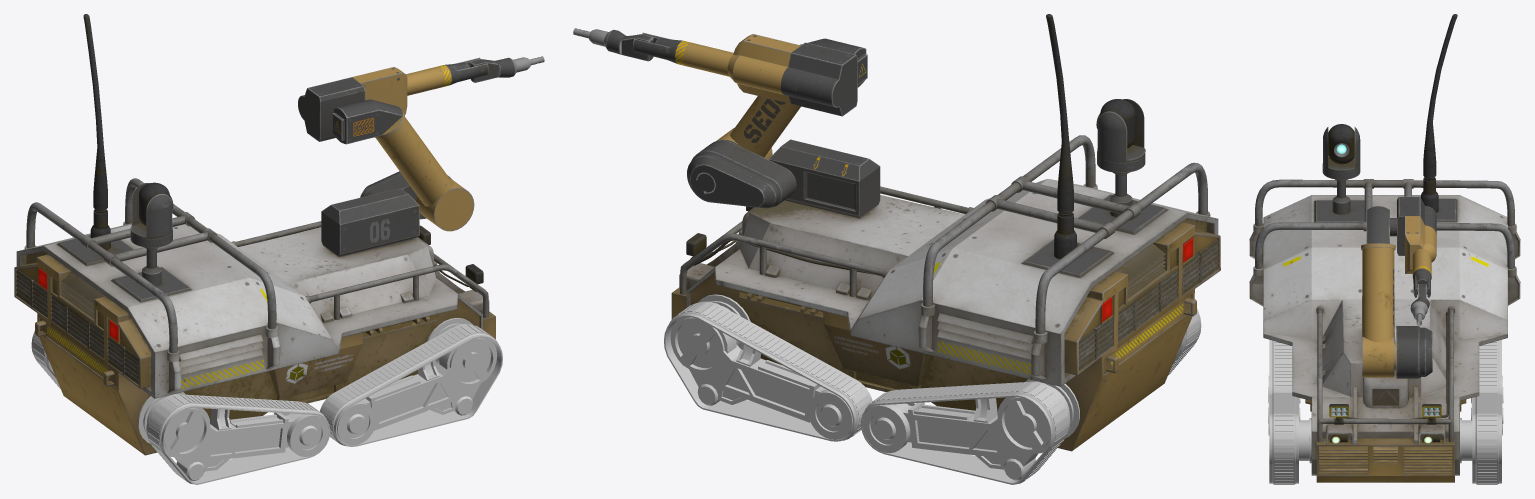
File: Robot.fbx
The picture shows the model from 3 angles, left to right: view 1: azimuth 30°, elevation 25°; view 2: azimuth 150°, elevation 25°; view 3: azimuth 270°, elevation 25°; orthographic projection. The views are drawn at different scales.
Visible parts, largest first — view 1: 2H (Base), 3L, 1L, 4L.003, 4L, 4L.001, 4L.004, 4L.002; view 2: 2H (Base), 3L, 1L, 4L, 4L.001, 4L.002, 4L.003, 4L.004; view 3: 2H (Base), 1L, 3L, 4L.003, 4L, 4L.002, 4L.004.
Part boxes in pixels (x1,y1,x2,y2): 2H (Base): (14,221,495,455); 3L: (31,318,502,484); 1L: (26,14,488,353); 4L.003: (332,99,474,231); 4L: (298,57,488,141); 4L.001: (321,188,419,256); 4L.004: (470,56,544,82); 4L.002: (360,171,451,219); 2H (Base): (671,179,1220,451); 3L: (664,294,1201,484); 1L: (680,14,1207,334); 4L: (633,32,857,116); 4L.001: (768,139,880,218); 4L.002: (687,140,796,208); 4L.003: (716,38,867,159); 4L.004: (573,28,653,61); 2H (Base): (1249,195,1520,482); 1L: (1255,14,1514,444); 3L: (1268,339,1503,484); 4L.003: (1361,206,1396,377); 4L: (1397,196,1436,297); 4L.002: (1394,326,1432,378); 4L.004: (1410,284,1429,325).
Size of the model in its own units: 4909 by 3786 by 2651.
